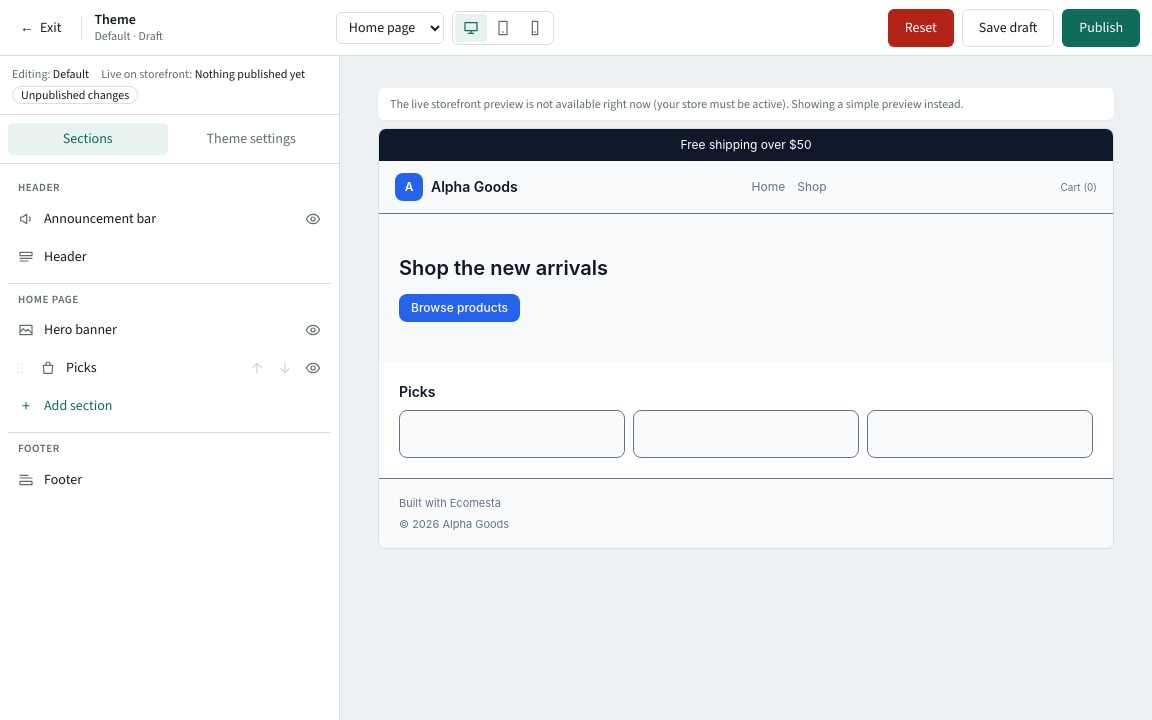
Premium themes › a locked premium theme offers Buy instead of Edit
Click the tab "Theme settings" at x=251, y=139, box [172, 123, 331, 155]
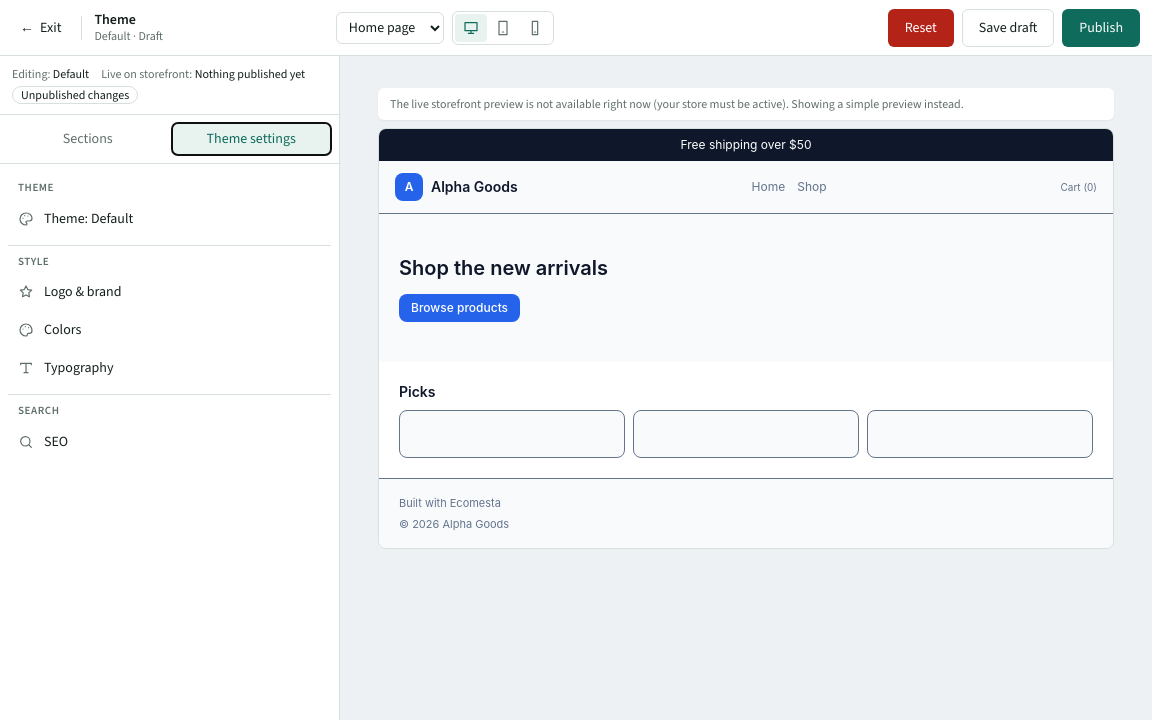
Click the button "Theme: Default" at x=89, y=218, box [8, 200, 331, 236]
(page scrolled)
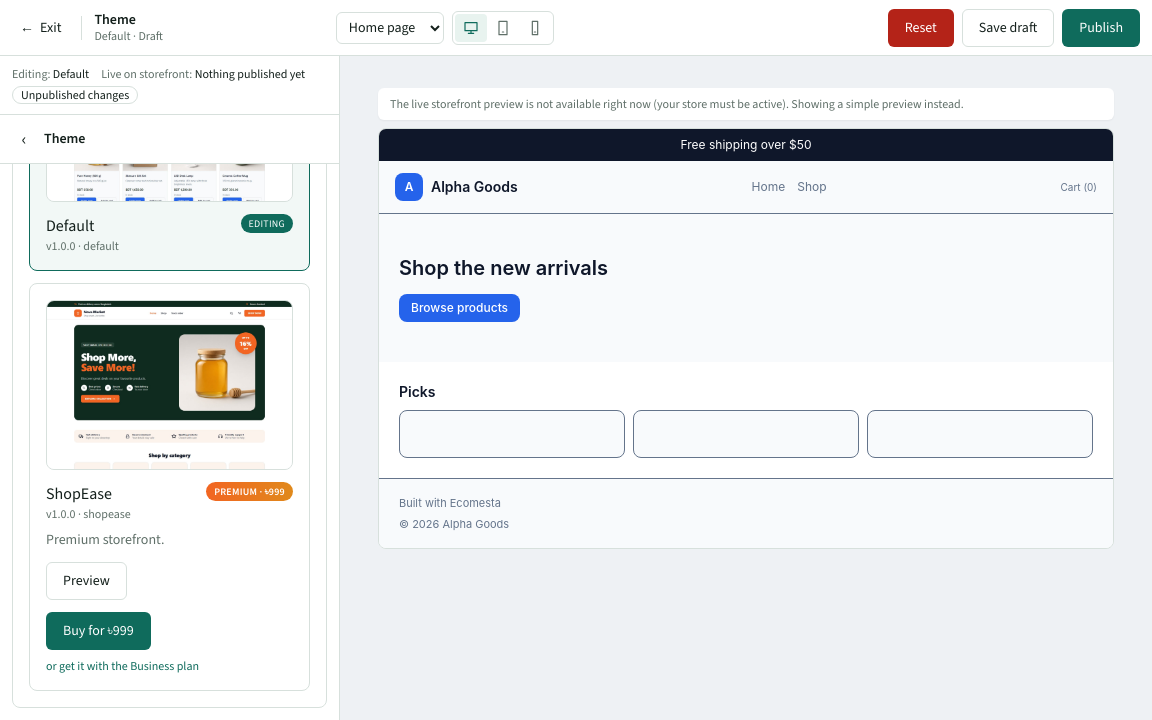
expect the button "Buy for ৳999" is shown: met, box [46, 612, 151, 650]
expect the text "Premium · ৳999" is shown: met, box [206, 482, 293, 501]
